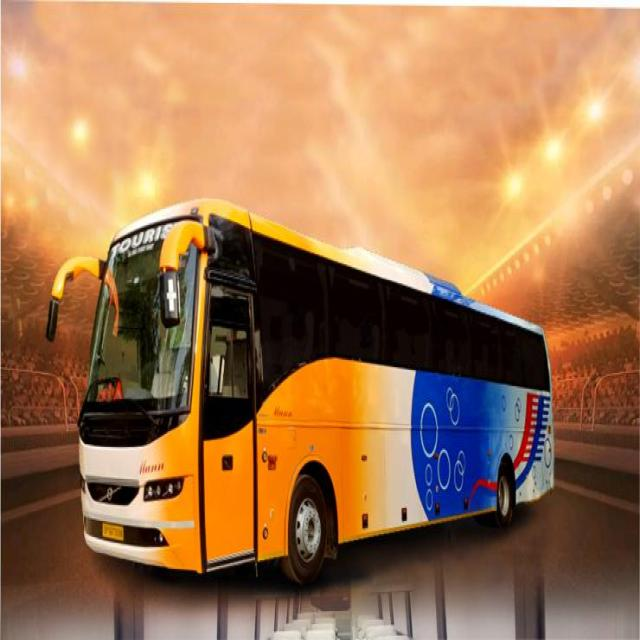bus: (48, 199, 554, 583)
